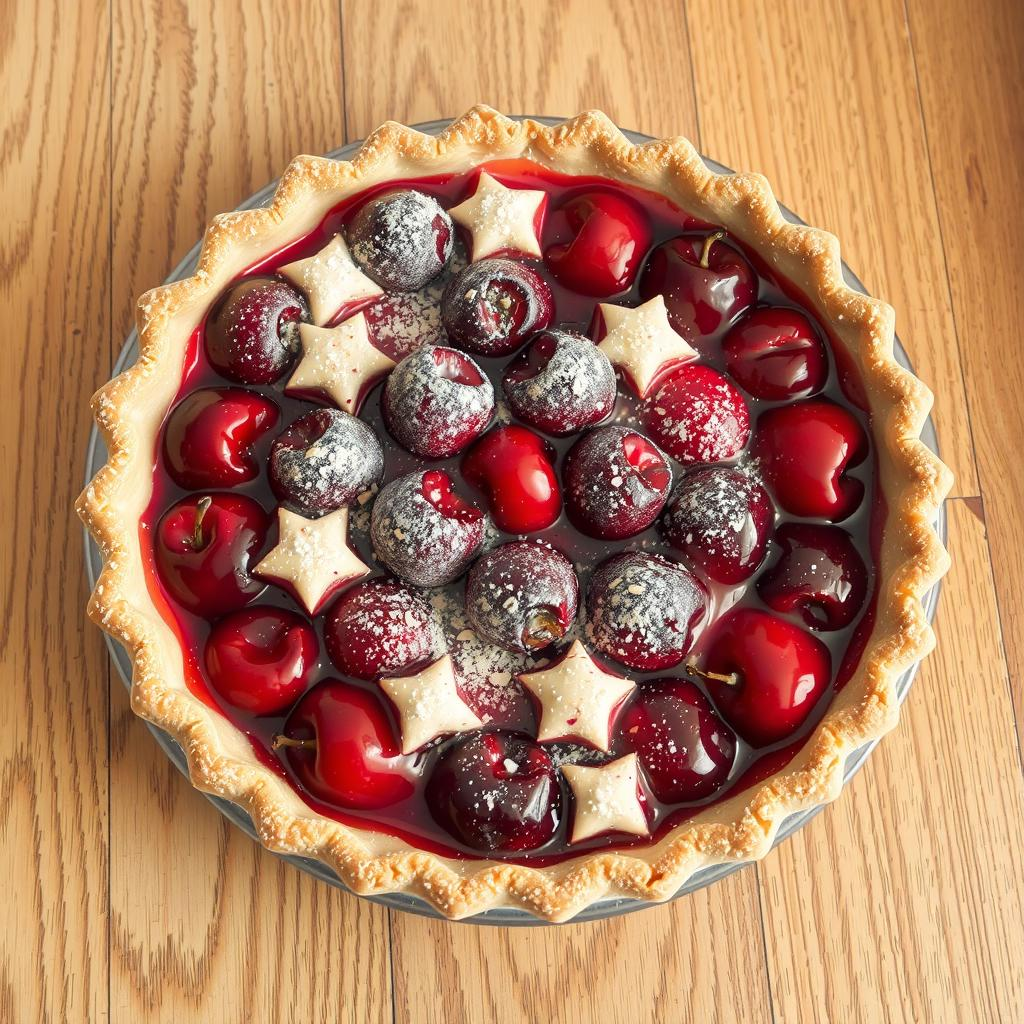pie: (64, 101, 969, 940)
